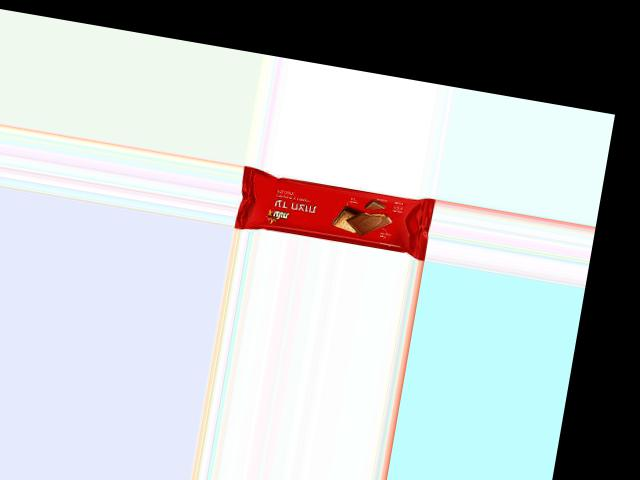chocolate: (239, 165, 433, 260)
